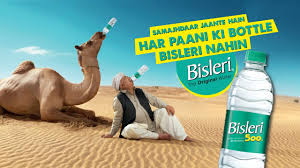Bisleri: (224, 114, 264, 144)
plastic: (132, 64, 148, 80), (105, 18, 115, 32)
